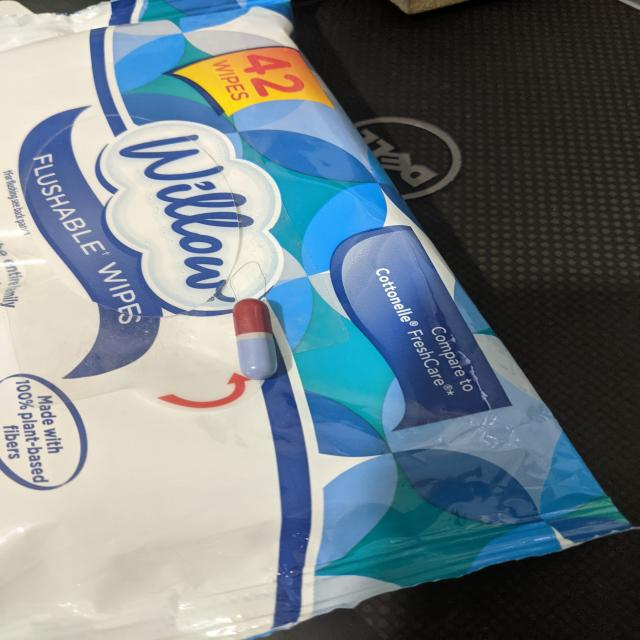non-organic waste: (232, 297, 279, 381)
